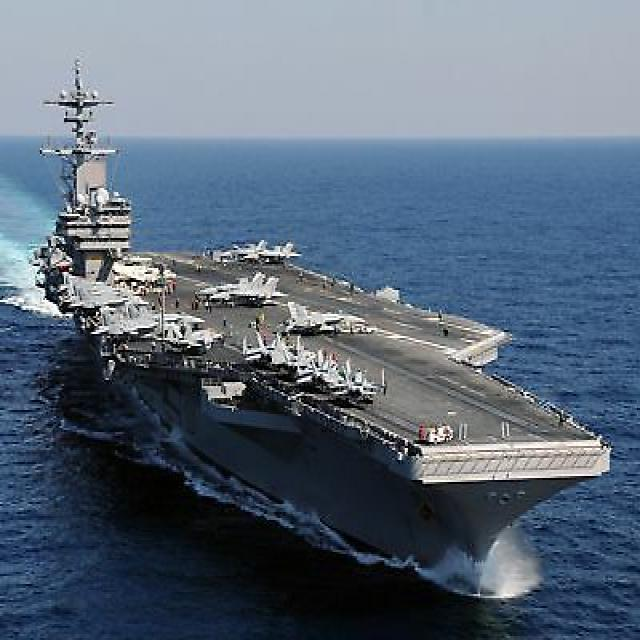navalvessels: (27, 72, 579, 569)
